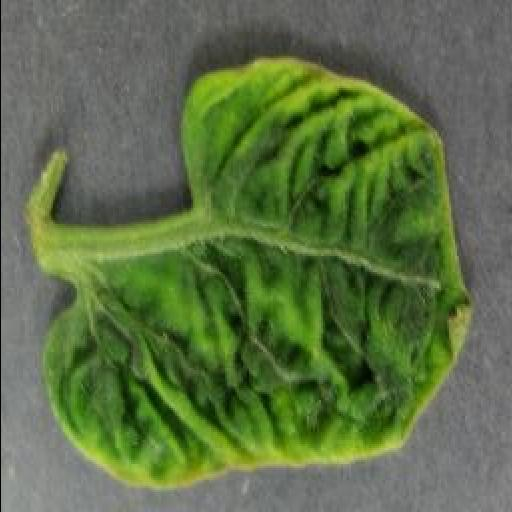disease_tomato: (40, 55, 474, 492)
